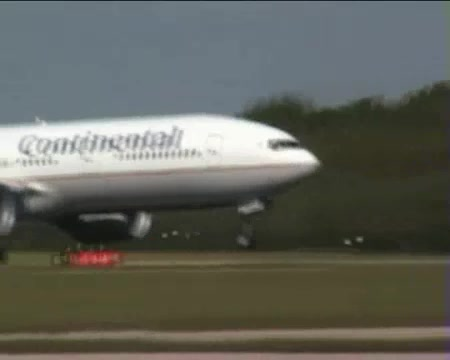aeroplane: (1, 113, 323, 254)
